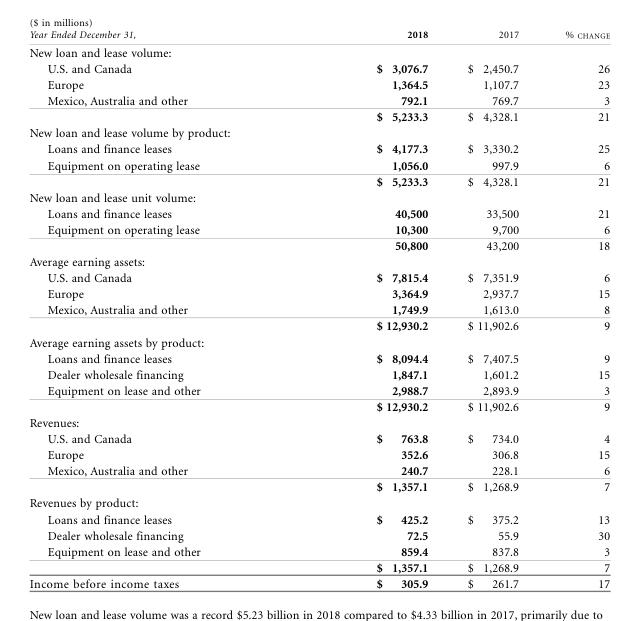table: (28, 29, 609, 589)
table column: (28, 29, 287, 589), (287, 29, 447, 589), (447, 29, 541, 589), (541, 29, 609, 589)
table column header: (28, 29, 609, 42)
table projected row header: (28, 42, 609, 60), (28, 124, 609, 140), (28, 189, 609, 205), (28, 253, 609, 269), (28, 334, 609, 350), (28, 414, 609, 430), (28, 494, 609, 510)
table row: (28, 42, 609, 60), (28, 156, 609, 173), (28, 317, 609, 334), (28, 510, 609, 527), (28, 60, 609, 76), (28, 76, 609, 92), (28, 92, 609, 108), (28, 108, 609, 124), (28, 124, 609, 140), (28, 140, 609, 156), (28, 173, 609, 189), (28, 189, 609, 205), (28, 205, 609, 221), (28, 221, 609, 237), (28, 237, 609, 253), (28, 253, 609, 269), (28, 269, 609, 285), (28, 285, 609, 301), (28, 301, 609, 317), (28, 334, 609, 350), (28, 350, 609, 366), (28, 366, 609, 382), (28, 382, 609, 398), (28, 398, 609, 414), (28, 414, 609, 430), (28, 430, 609, 446), (28, 446, 609, 462), (28, 462, 609, 478), (28, 478, 609, 494), (28, 494, 609, 510), (28, 527, 609, 543), (28, 543, 609, 559), (28, 559, 609, 575), (28, 575, 609, 589), (28, 29, 609, 42)
